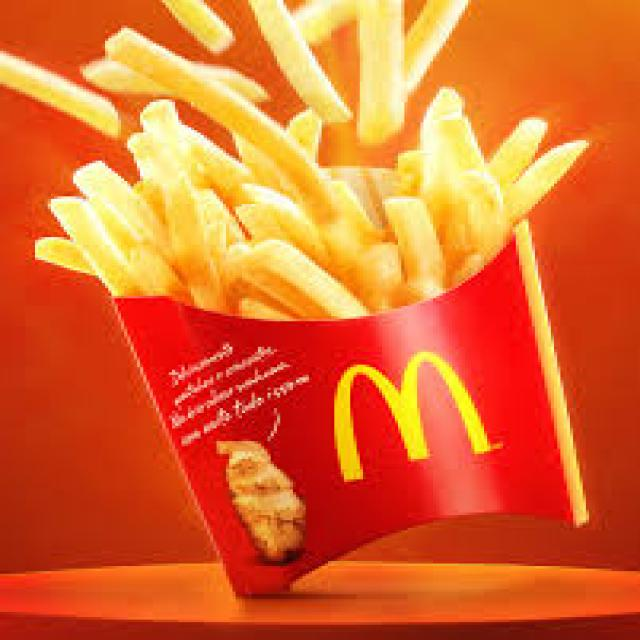Fries: (16, 41, 590, 540)
